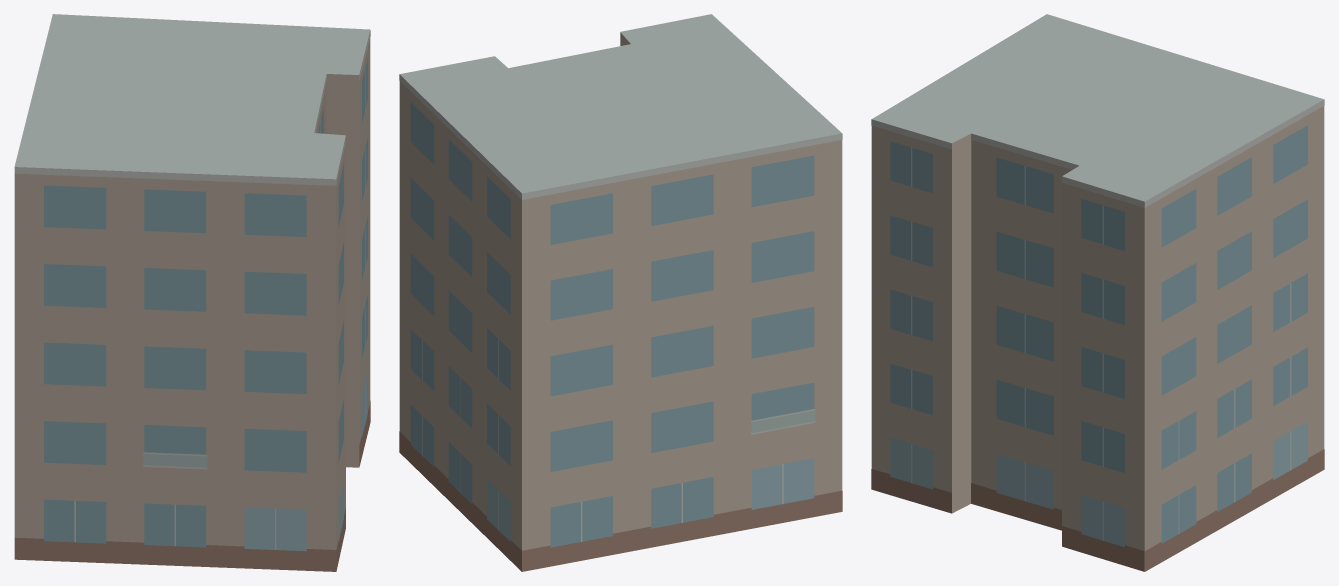
Rendered from survey-upis-32821127.glb.
The picture shows the model from 3 angles, left to right: view 1: azimuth 30°, elevation 25°; view 2: azimuth 150°, elevation 25°; view 3: azimuth 270°, elevation 25°; orthographic projection. The views are drawn at different scales.
Parts seen in each view (by area): view 1: survey-upis-32821127.tmp; view 2: survey-upis-32821127.tmp; view 3: survey-upis-32821127.tmp.
Boxes of the visible parts, x1,y1,x2,y2 form: survey-upis-32821127.tmp: (14, 14, 370, 571); survey-upis-32821127.tmp: (399, 14, 842, 571); survey-upis-32821127.tmp: (871, 14, 1324, 571).
Size of the model in its own units: 15.66 by 14.4 by 15.98.
